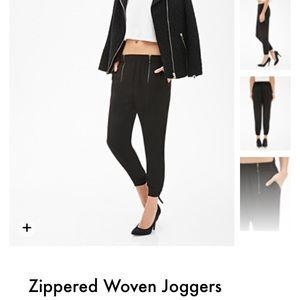C_jacket: (91, 1, 208, 83)
F_W_pants: (101, 45, 178, 202), (250, 79, 277, 139), (255, 2, 278, 53)
F_heels: (126, 172, 172, 241), (255, 50, 282, 67), (252, 134, 272, 150)
